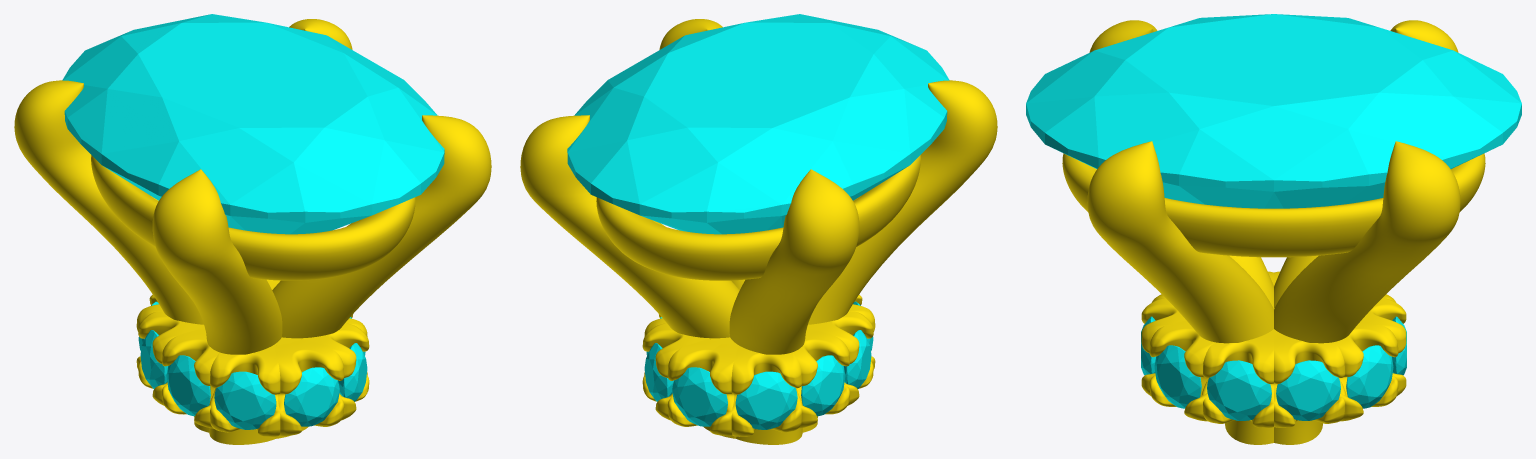
The model's file is hd_oval_10.glb.
3 renders of one model, left to right at view 1: azimuth 30°, elevation 25°; view 2: azimuth 150°, elevation 25°; view 3: azimuth 270°, elevation 25°, orthographic. The views are drawn at different scales.
Parts seen in each view (by area): view 1: HD-HHS-Oval-10.3dm; view 2: HD-HHS-Oval-10.3dm; view 3: HD-HHS-Oval-10.3dm.
Part boxes in pixels (x1=…): HD-HHS-Oval-10.3dm: x1=14, y1=14, x2=491, y2=444; HD-HHS-Oval-10.3dm: x1=520, y1=14, x2=997, y2=444; HD-HHS-Oval-10.3dm: x1=1026, y1=14, x2=1521, y2=444.
Bounding box in the file's own units: 2.11 × 2.13 × 2.65.
